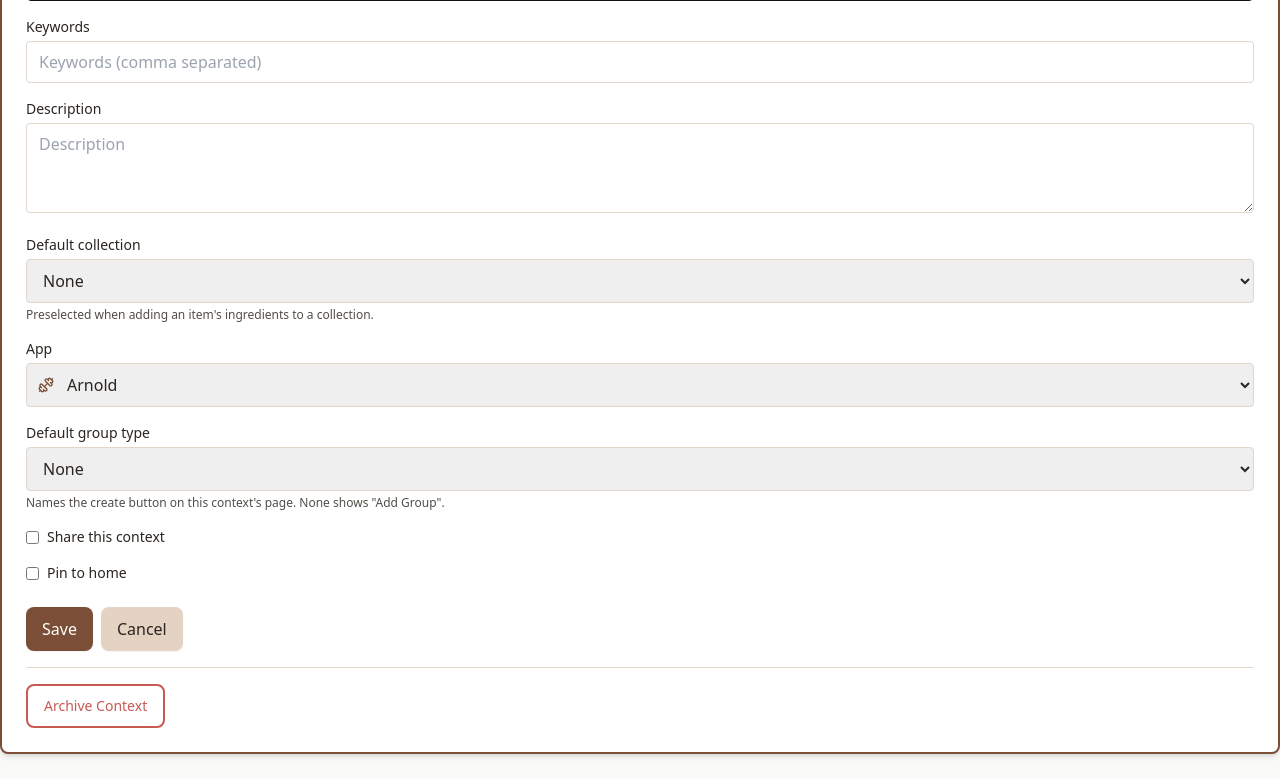
Scenario: Archive Context › Cancel archives nothing
(page scrolled)
Click the button "Archive Context".
click(96, 706)  # box 26,684 -> 165,728
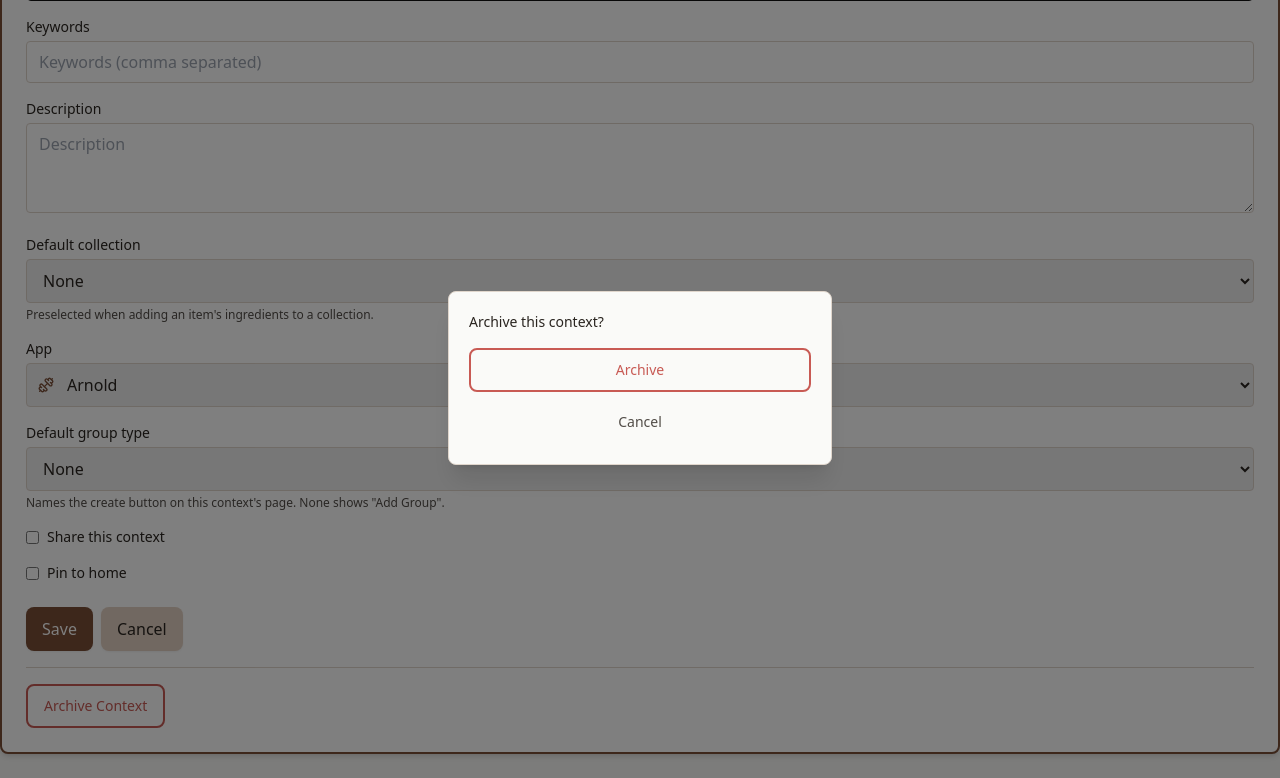
Click the button "Cancel".
click(640, 422)  # box 469,400 -> 811,444
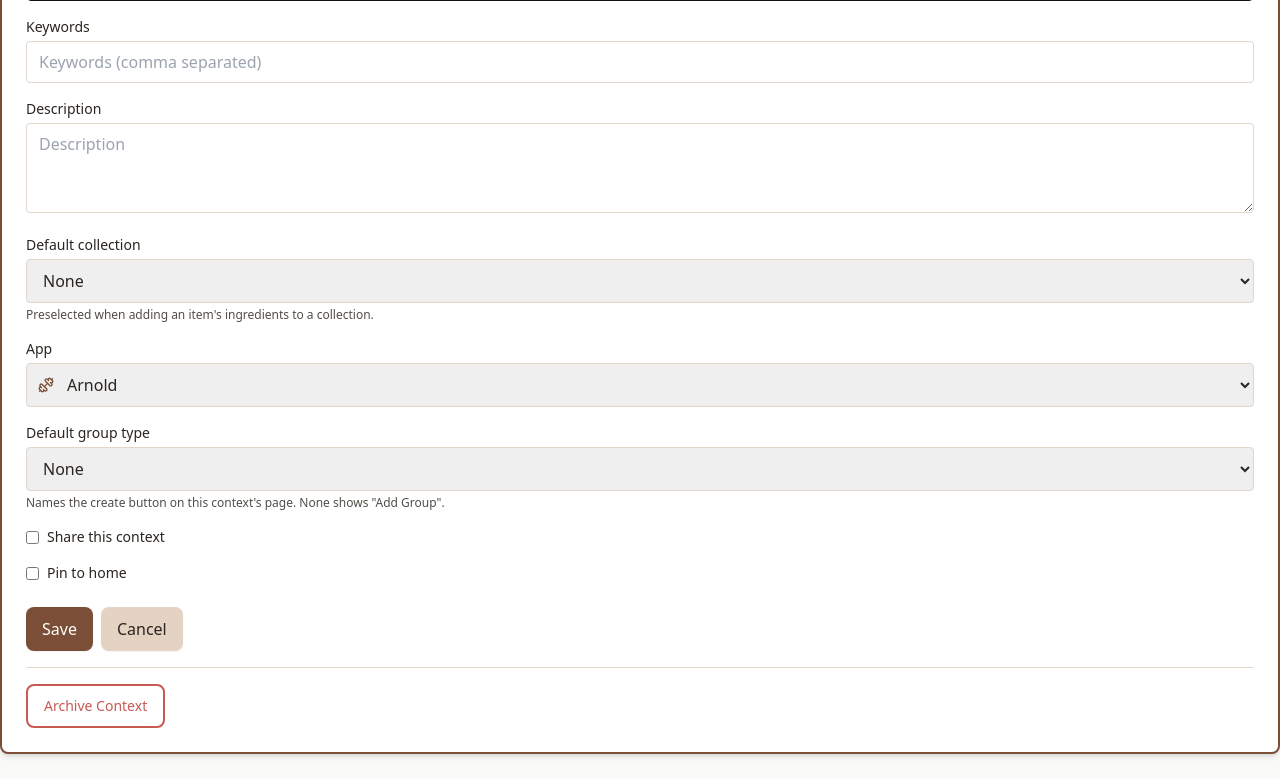
Check: the text "Archive this context?" is gone
